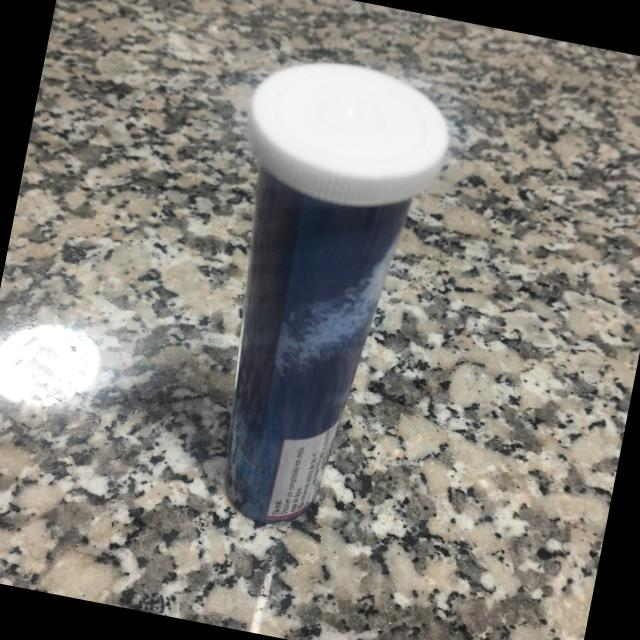tubo_efervescente: (168, 42, 466, 548)
